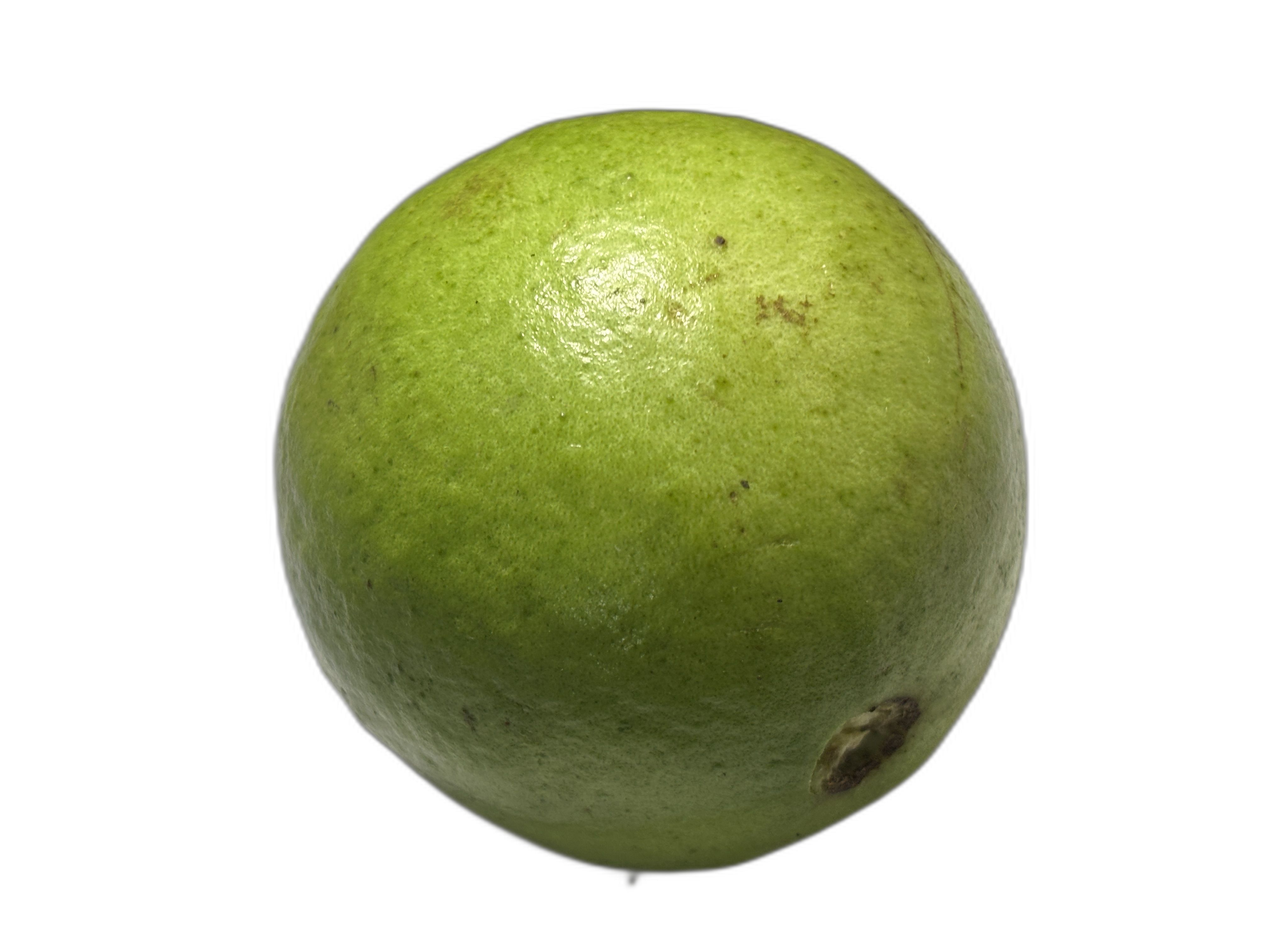guava: (0, 55, 1094, 812)
